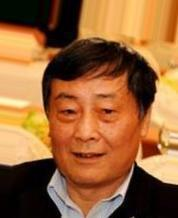face: (55, 92, 120, 166)
